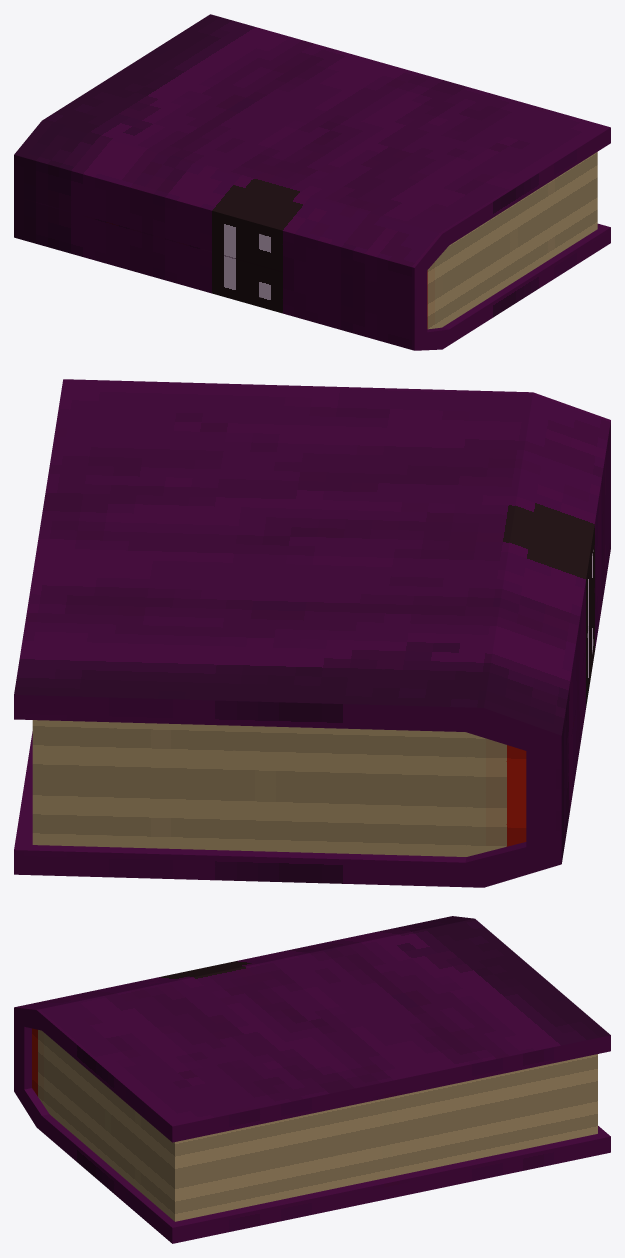
File: E_BOOK.fbx
The picture shows the model from 3 angles, top to bottom: view 1: azimuth 30°, elevation 25°; view 2: azimuth 150°, elevation 25°; view 3: azimuth 270°, elevation 25°; orthographic projection. The views are drawn at different scales.
Visible parts, largest first — view 1: Cube.005; view 2: Cube.005; view 3: Cube.005.
Boxes of the visible parts, x1,y1,x2,y2 form: Cube.005: (14,14,610,350); Cube.005: (14,379,610,887); Cube.005: (14,916,610,1243).
Bounding box in the file's own units: 56.71 × 13.66 × 62.98.
